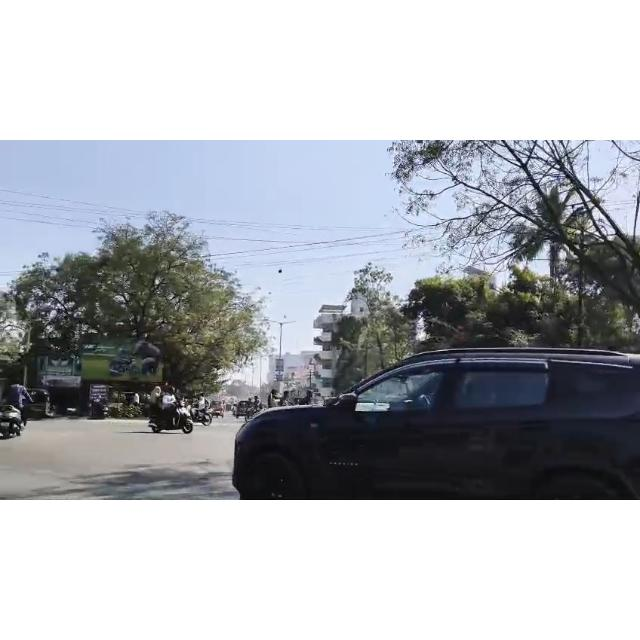auto: (18, 383, 54, 419)
car: (229, 340, 640, 499)
